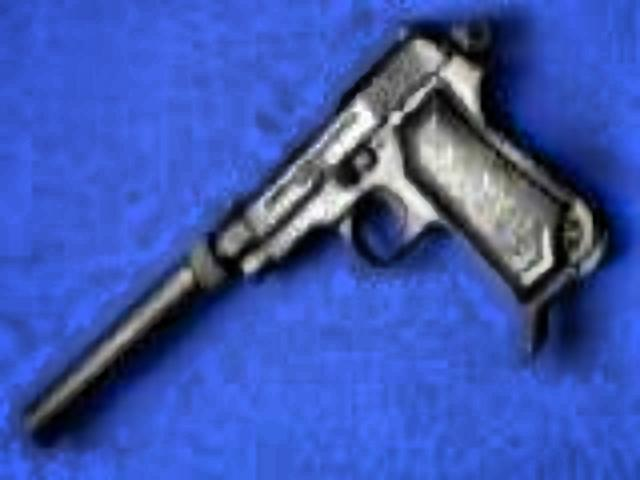pistol: (16, 8, 616, 448)
